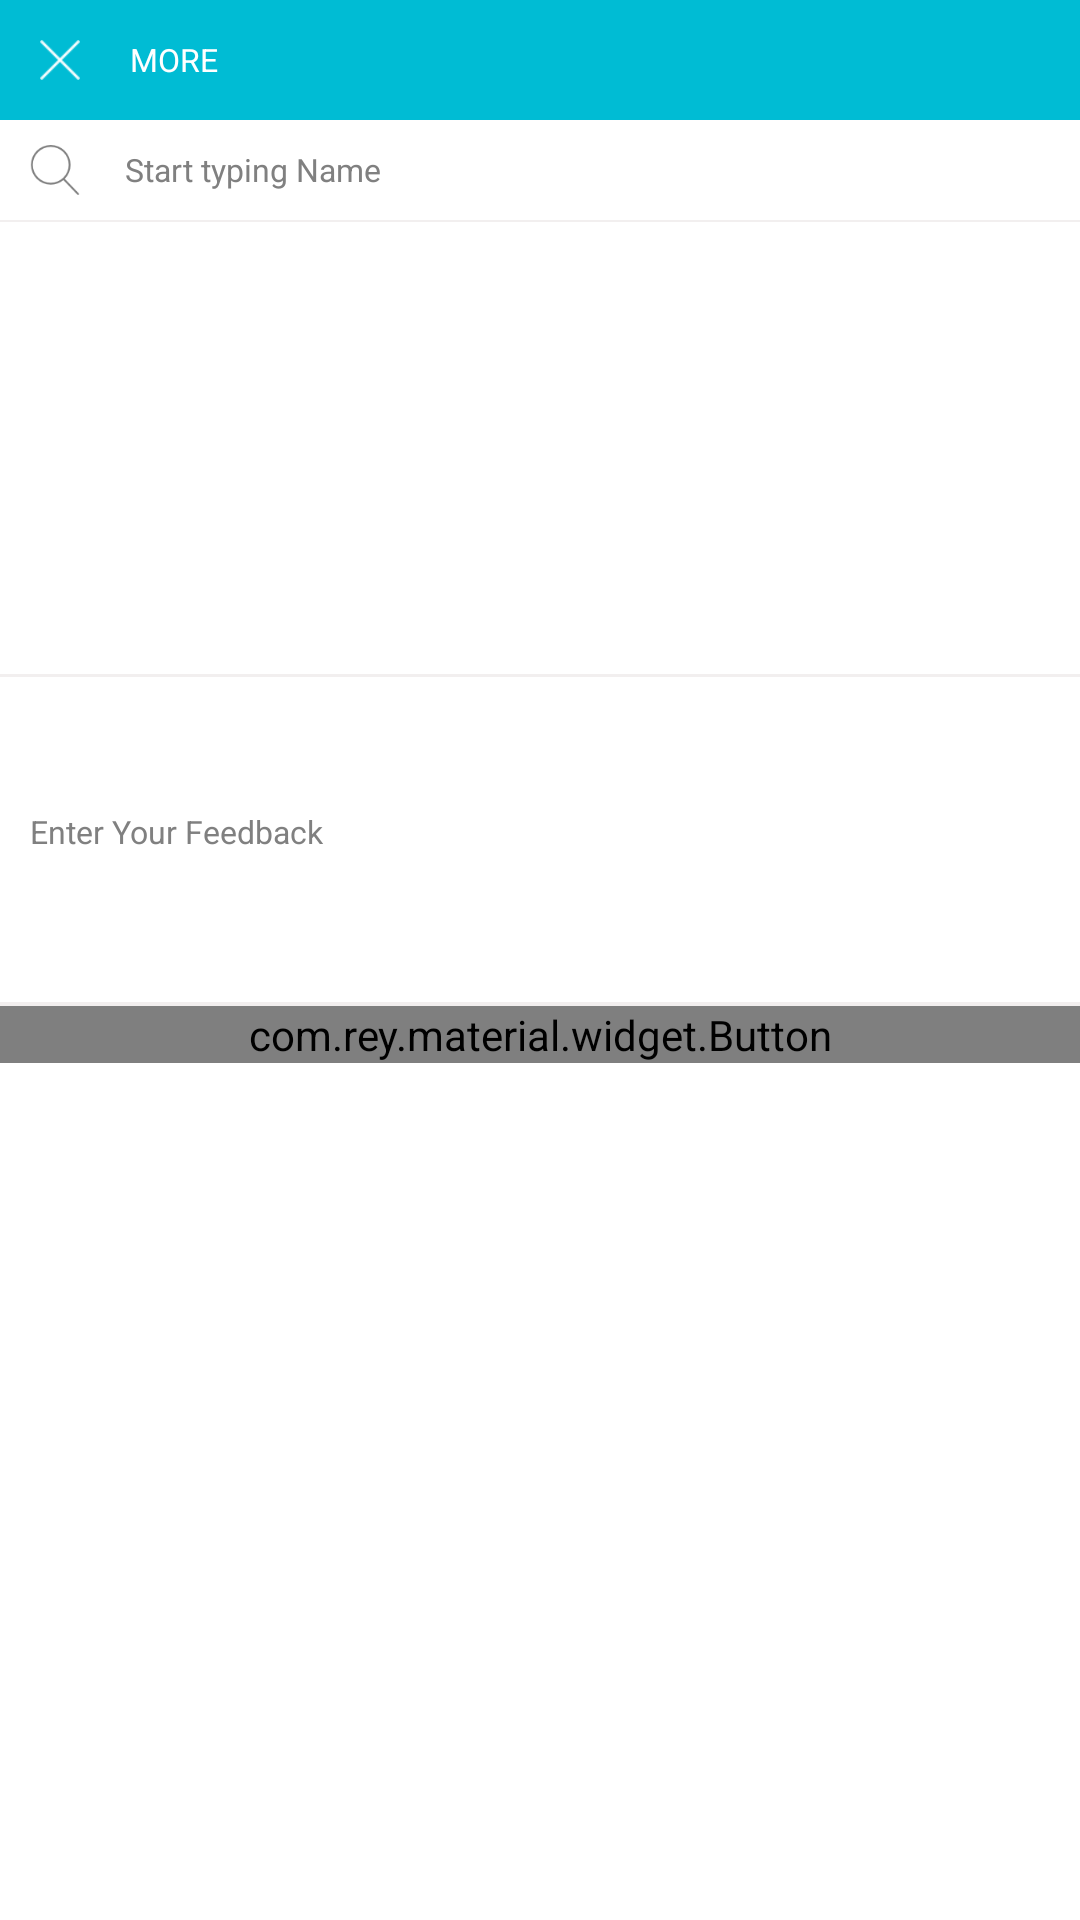

Locate icon controls on the screen. Image size 1080×1920, boxes as (x1, y1, x2, y2).
cancel event: (40, 40, 80, 80)
search: (31, 145, 79, 195)
